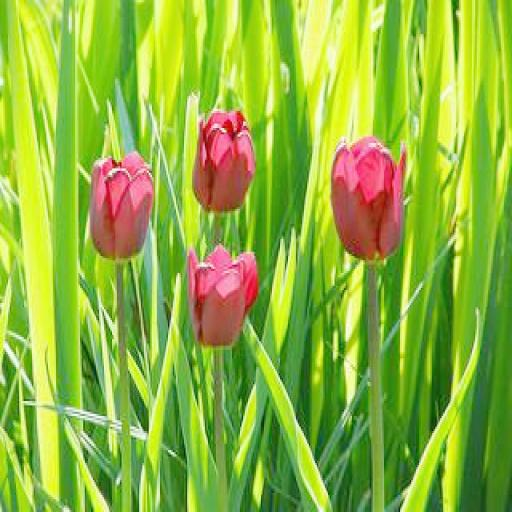tulip: (330, 135, 408, 258), (187, 245, 261, 348), (90, 150, 152, 262), (192, 109, 254, 209)
